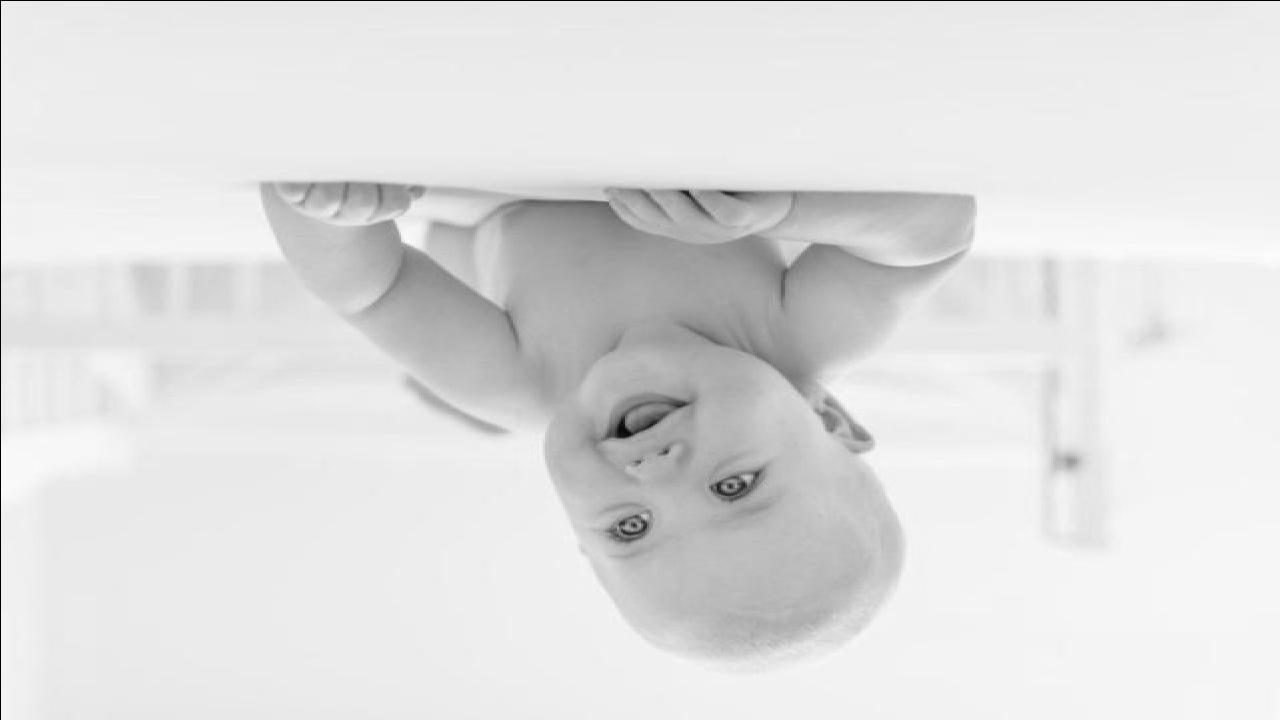hand: (602, 184, 786, 244), (267, 175, 423, 226)
